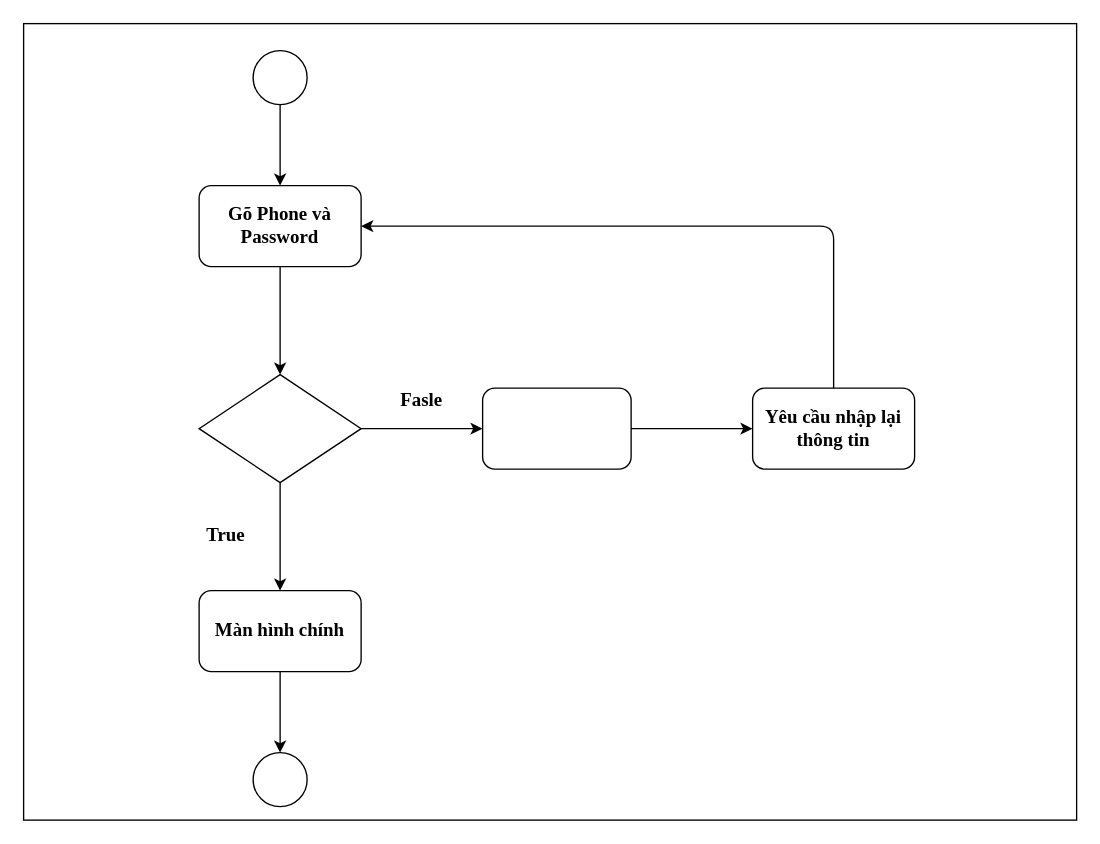
The diagram is 1100 pixels wide and 844 high, and some of its shapes have lost their labels. The centre of each missing label's shape, as x and y in pixels:
Check Login: point 279,428
Thông báo lỗi: point 556,428
